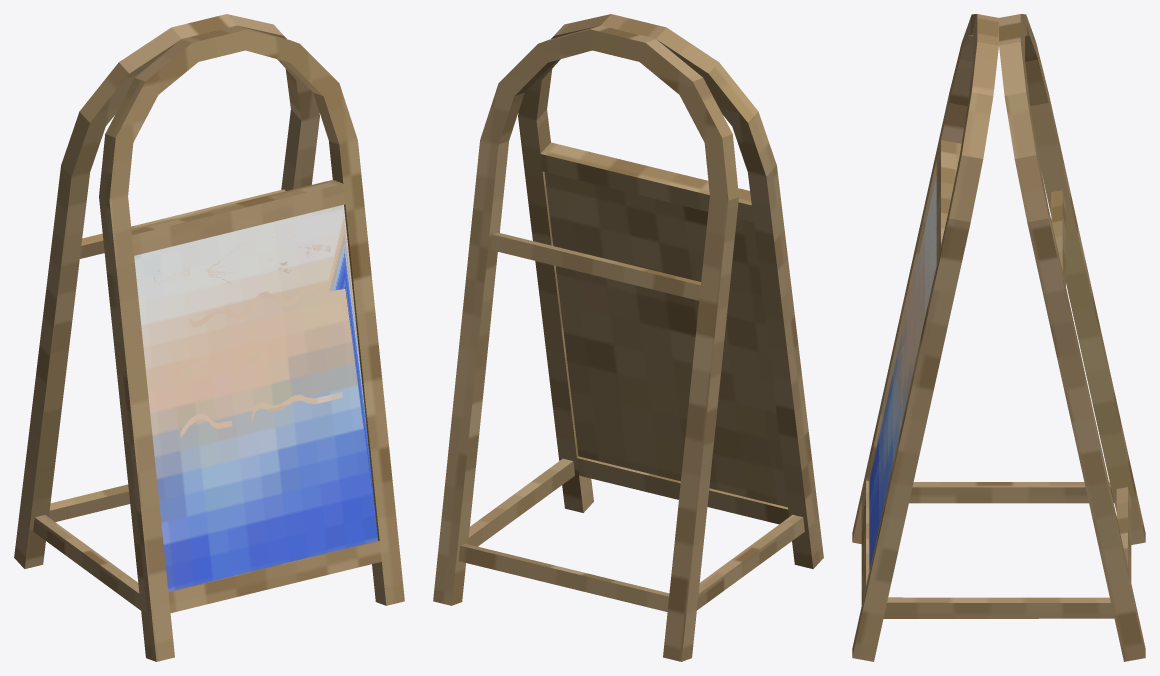
Rendered from Reseta.fbx.
The picture shows the model from 3 angles, left to right: view 1: azimuth 30°, elevation 25°; view 2: azimuth 150°, elevation 25°; view 3: azimuth 270°, elevation 25°; orthographic projection. The views are drawn at different scales.
Parts seen in each view (by area): view 1: Chair.003; view 2: Chair.003; view 3: Chair.003.
Boxes of the visible parts, <box> form: Chair.003: <box>14,14,404,661</box>; Chair.003: <box>433,14,823,661</box>; Chair.003: <box>852,14,1145,661</box>.
Bounding box in the file's own units: 54.04 × 115 × 53.65.
1 material, 1 textured.
